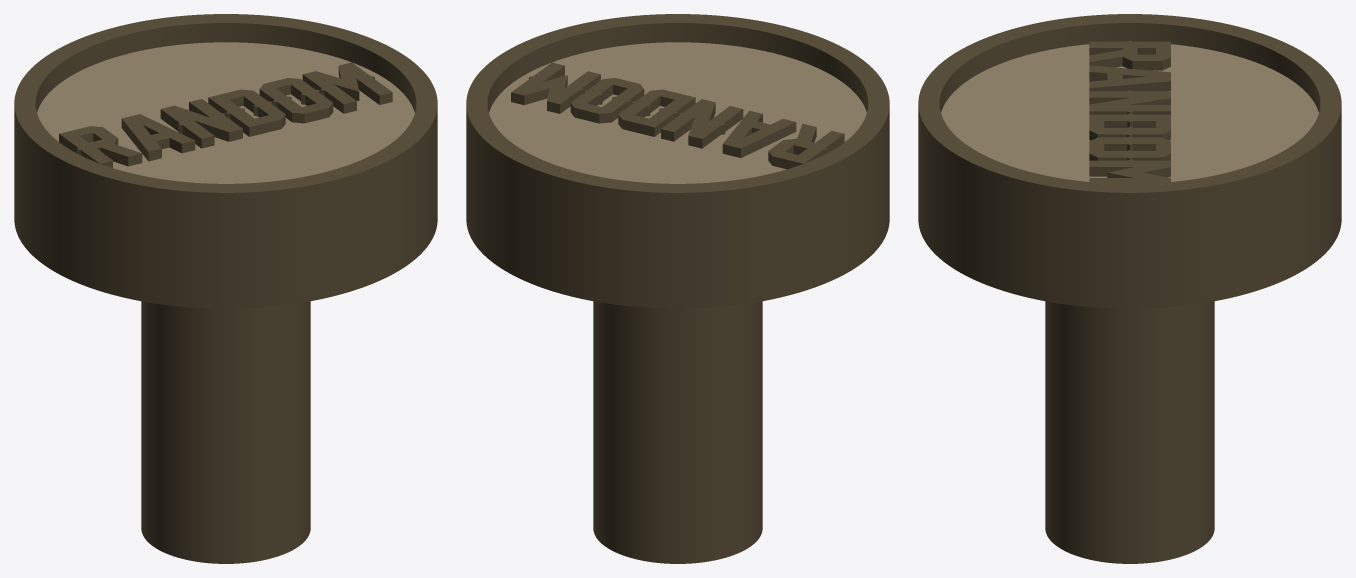
File: Random Button.fbx
3 views of the same model, side by side, from view 1: azimuth 30°, elevation 25°; view 2: azimuth 150°, elevation 25°; view 3: azimuth 270°, elevation 25° (orthographic).
Visible parts, largest first — view 1: Cylinder, Cylinder.002, Circle, Text.003; view 2: Cylinder, Cylinder.002, Circle, Text.003; view 3: Cylinder, Cylinder.002, Circle, Text.003.
Boxes of the visible parts, x1,y1,x2,y2 form: Cylinder: (14,14,437,308); Cylinder.002: (141,301,310,563); Circle: (37,42,414,183); Text.003: (59,62,392,167); Cylinder: (466,14,889,308); Cylinder.002: (593,301,762,563); Circle: (489,42,866,183); Text.003: (511,62,844,169); Cylinder: (918,14,1341,308); Cylinder.002: (1045,301,1214,563); Circle: (941,44,1318,181); Text.003: (1089,40,1170,183).
Size of the model in its own units: 199 by 220 by 199.
